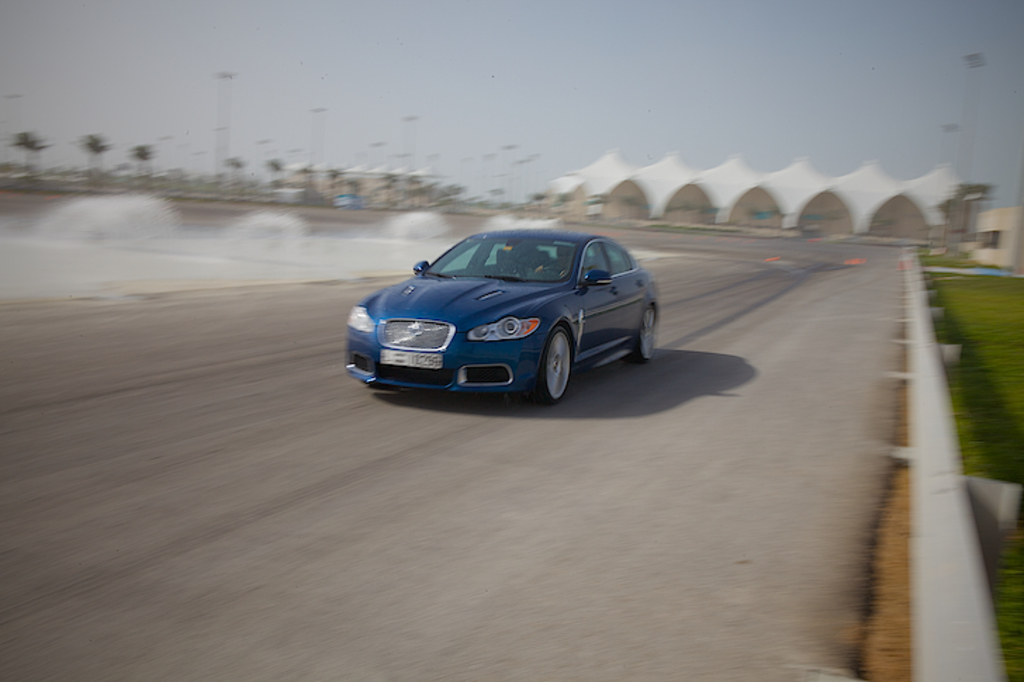Car: (348, 224, 662, 400)
